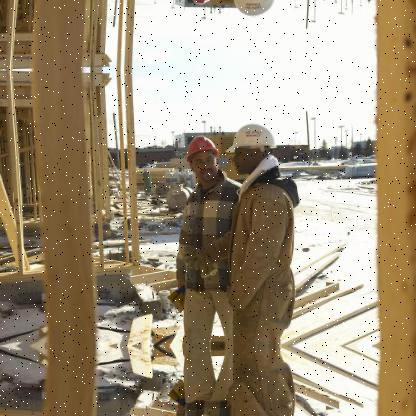helmet: (230, 117, 279, 166), (182, 132, 226, 183), (230, 0, 280, 20)
